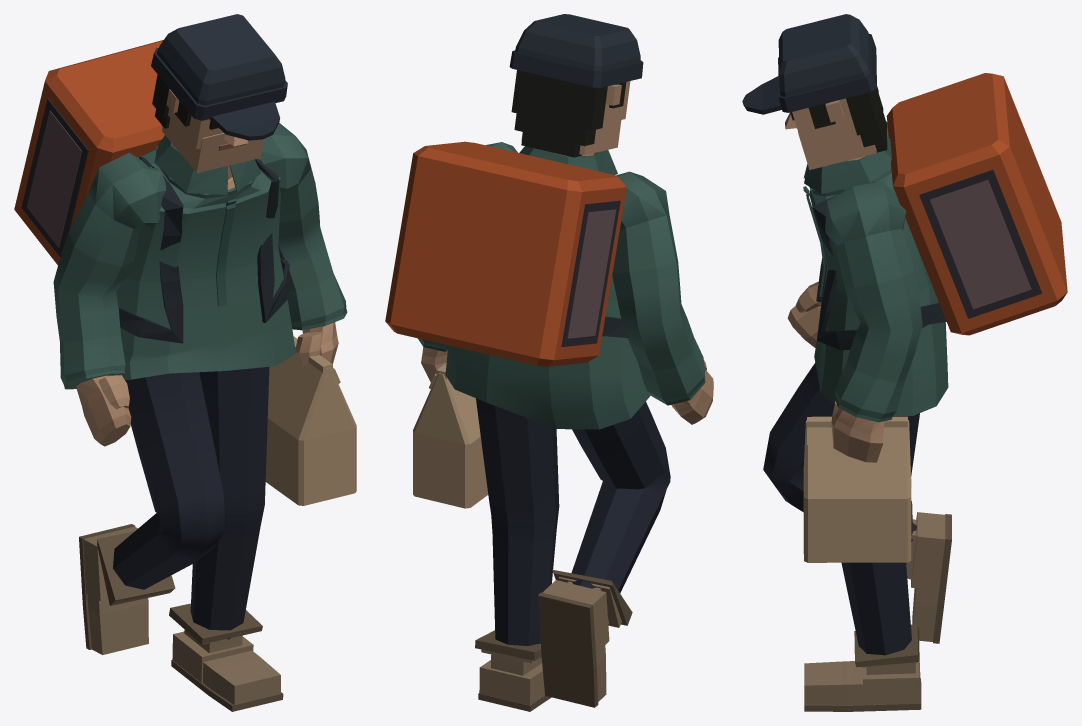
File: delivery-courier-327e30__walk2.glb
3 views of the same model, side by side, from view 1: azimuth 30°, elevation 25°; view 2: azimuth 150°, elevation 25°; view 3: azimuth 270°, elevation 25° (orthographic). The views are drawn at different scales.
Visible parts, largest first — view 1: delivery-courier-327e30__walk2; view 2: delivery-courier-327e30__walk2; view 3: delivery-courier-327e30__walk2.
Part boxes in pixels (x1,y1,x2,y2): delivery-courier-327e30__walk2: (14, 14, 356, 711); delivery-courier-327e30__walk2: (385, 14, 713, 711); delivery-courier-327e30__walk2: (742, 14, 1067, 711).
Size of the model in its own units: 0.7808 by 1.76 by 0.7868.
